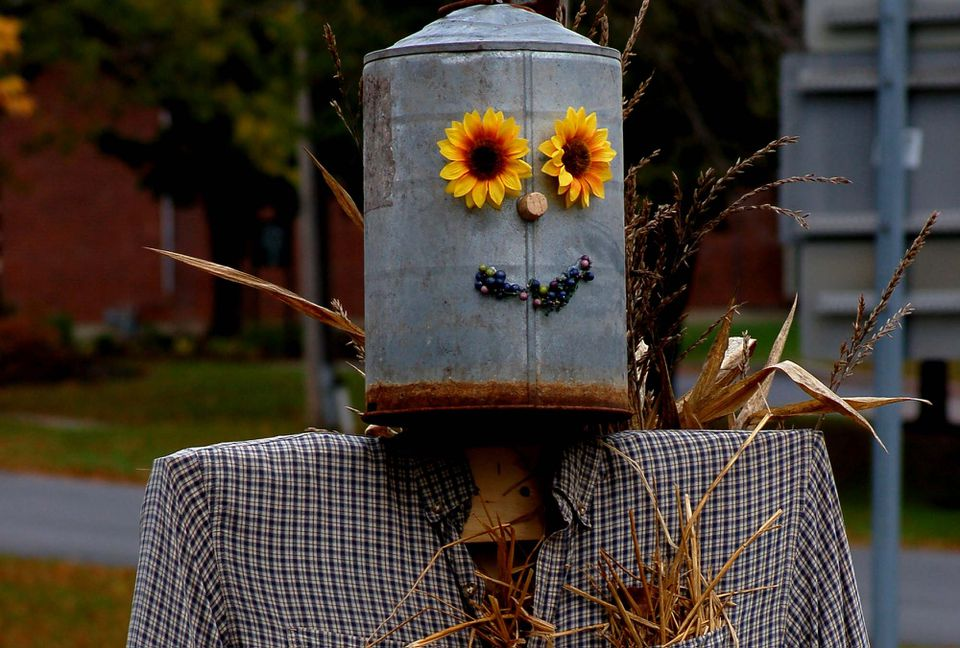person-like: (117, 2, 872, 648)
